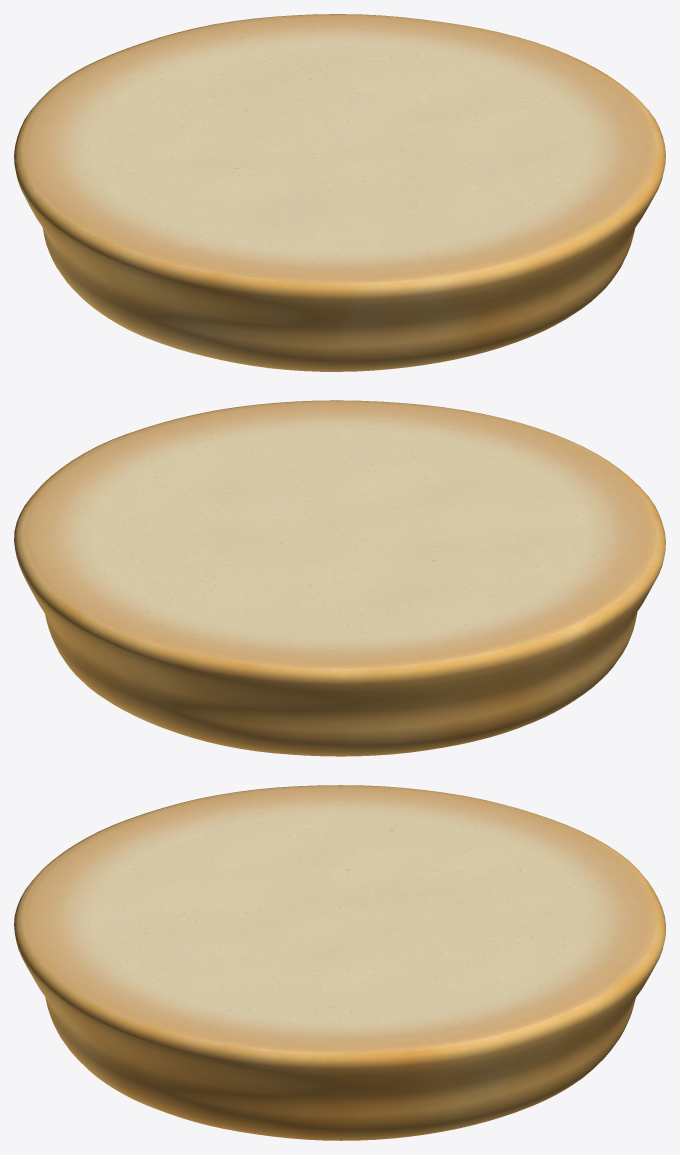
The model's file is pan-base.glb.
3 renders of one model, top to bottom at view 1: azimuth 30°, elevation 25°; view 2: azimuth 150°, elevation 25°; view 3: azimuth 270°, elevation 25°, orthographic.
Parts seen in each view (by area): view 1: pan-base; view 2: pan-base; view 3: pan-base.
Part boxes in pixels (x1,y1,x2,y2): pan-base: (14,14,665,371); pan-base: (14,400,665,756); pan-base: (14,785,665,1140).
Size of the model in its own units: 2.12 by 0.4226 by 2.13.
Materials: 1 (1 with a texture image).
